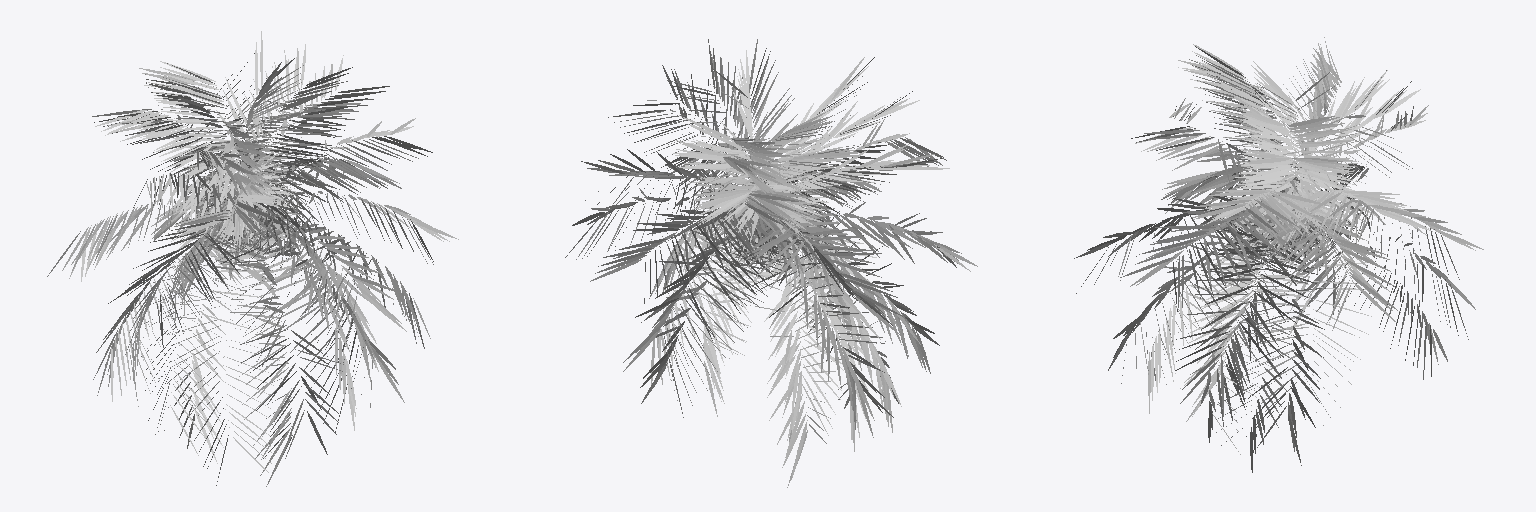
File: Leaves.obj
The picture shows the model from 3 angles: view 1: azimuth 30°, elevation 25°; view 2: azimuth 150°, elevation 25°; view 3: azimuth 270°, elevation 25°; orthographic projection.
Visible parts, largest first — view 1: default; view 2: default; view 3: default.
Part boxes in pixels (x1,y1,x2,y2): default: (47,31,458,486); default: (565,39,977,487); default: (1074,37,1483,472).
Size of the model in its own units: 8.32 by 9.38 by 8.59.